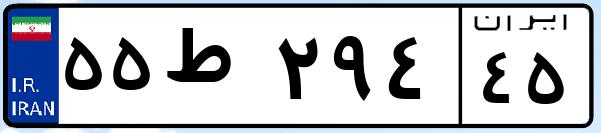2: (270, 28, 330, 110)
4: (385, 28, 445, 110), (475, 38, 525, 113)
5: (57, 26, 110, 100), (525, 38, 570, 115), (110, 28, 158, 98)
9: (330, 28, 385, 110)
ط: (158, 20, 270, 120)
